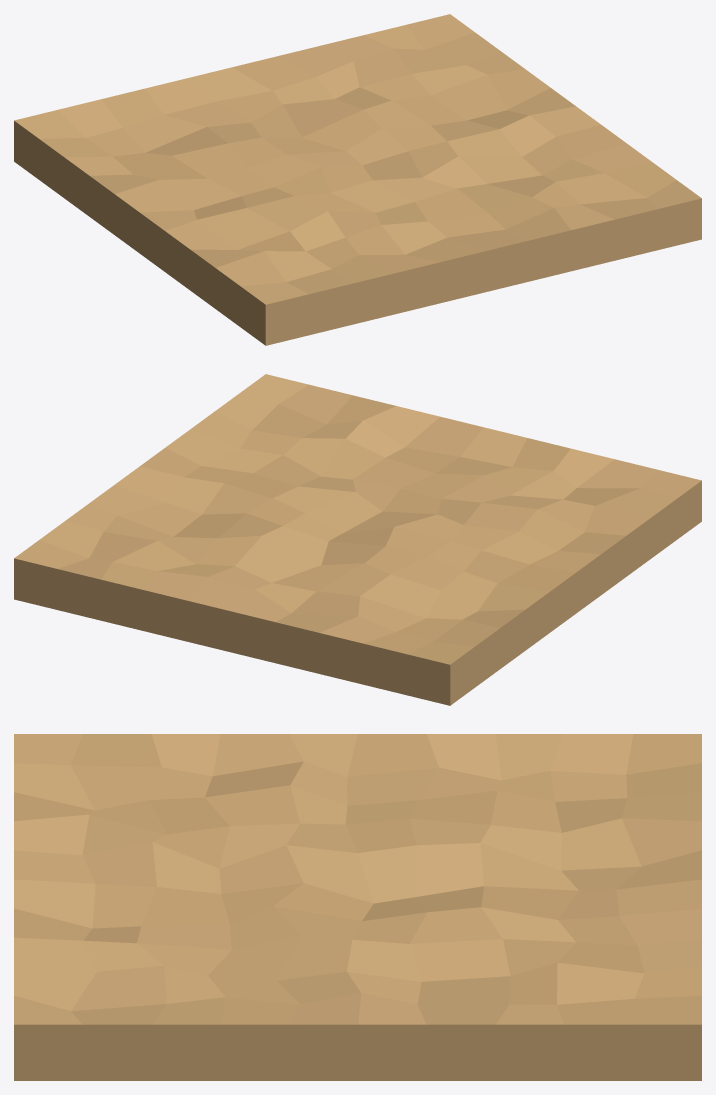
File: SM_Ground_Sand.obj
The picture shows the model from 3 angles, top to bottom: view 1: azimuth 30°, elevation 25°; view 2: azimuth 150°, elevation 25°; view 3: azimuth 270°, elevation 25°; orthographic projection. The views are drawn at different scales.
Parts seen in each view (by area): view 1: SM_Ground_Sand; view 2: SM_Ground_Sand; view 3: SM_Ground_Sand.
Part boxes in pixels (left/top/right/bottom): SM_Ground_Sand: left=14, top=14, right=701, bottom=345; SM_Ground_Sand: left=14, top=374, right=701, bottom=705; SM_Ground_Sand: left=14, top=734, right=701, bottom=1080.
Bounding box in the file's own units: 2 × 0.1995 × 2.
